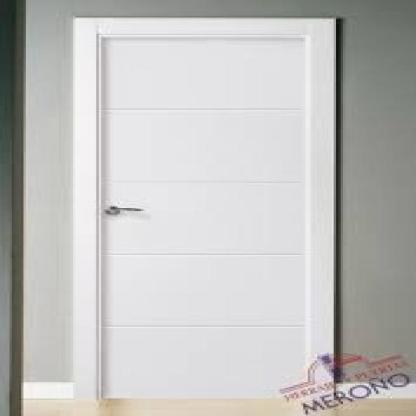door: (61, 9, 343, 400)
